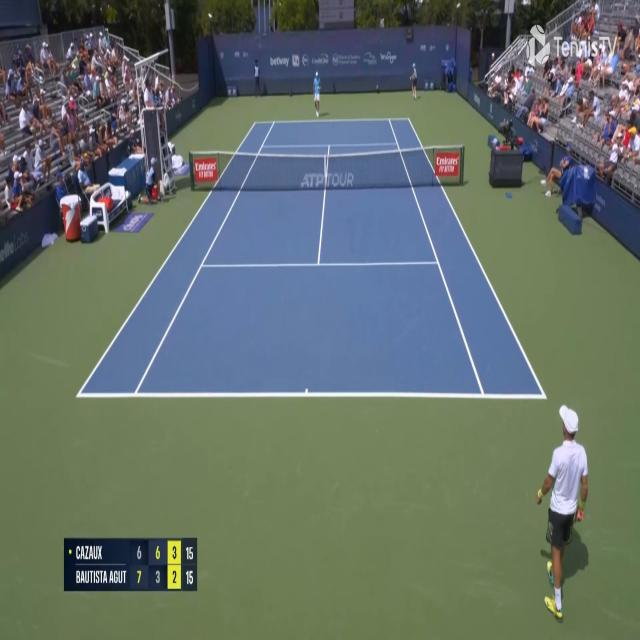tennis-player: (534, 402, 592, 620), (312, 68, 322, 119)
